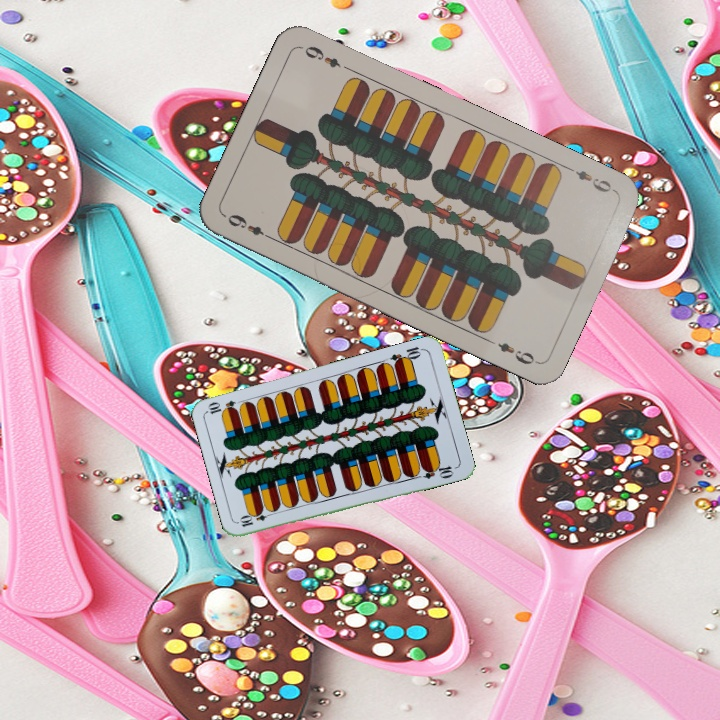E10: (386, 342, 426, 368), (236, 507, 276, 530)
E9: (563, 162, 618, 195), (223, 210, 276, 243)
